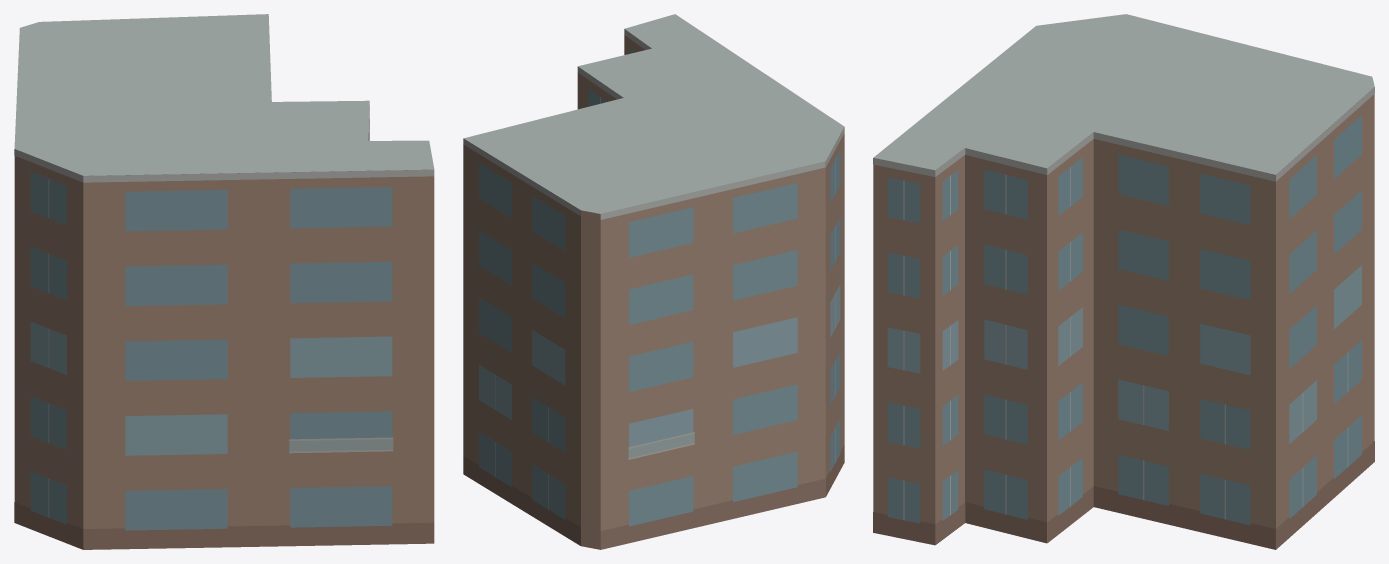
The model's file is survey-upis-32938618.glb.
3 renders of one model, left to right at view 1: azimuth 30°, elevation 25°; view 2: azimuth 150°, elevation 25°; view 3: azimuth 270°, elevation 25°, orthographic. The views are drawn at different scales.
Parts seen in each view (by area): view 1: survey-upis-32938618.tmp; view 2: survey-upis-32938618.tmp; view 3: survey-upis-32938618.tmp.
Boxes of the visible parts, x1,y1,x2,y2 form: survey-upis-32938618.tmp: (14, 14, 434, 549); survey-upis-32938618.tmp: (463, 14, 844, 549); survey-upis-32938618.tmp: (873, 14, 1374, 549).
Size of the model in its own units: 12.43 by 13.5 by 16.38.
